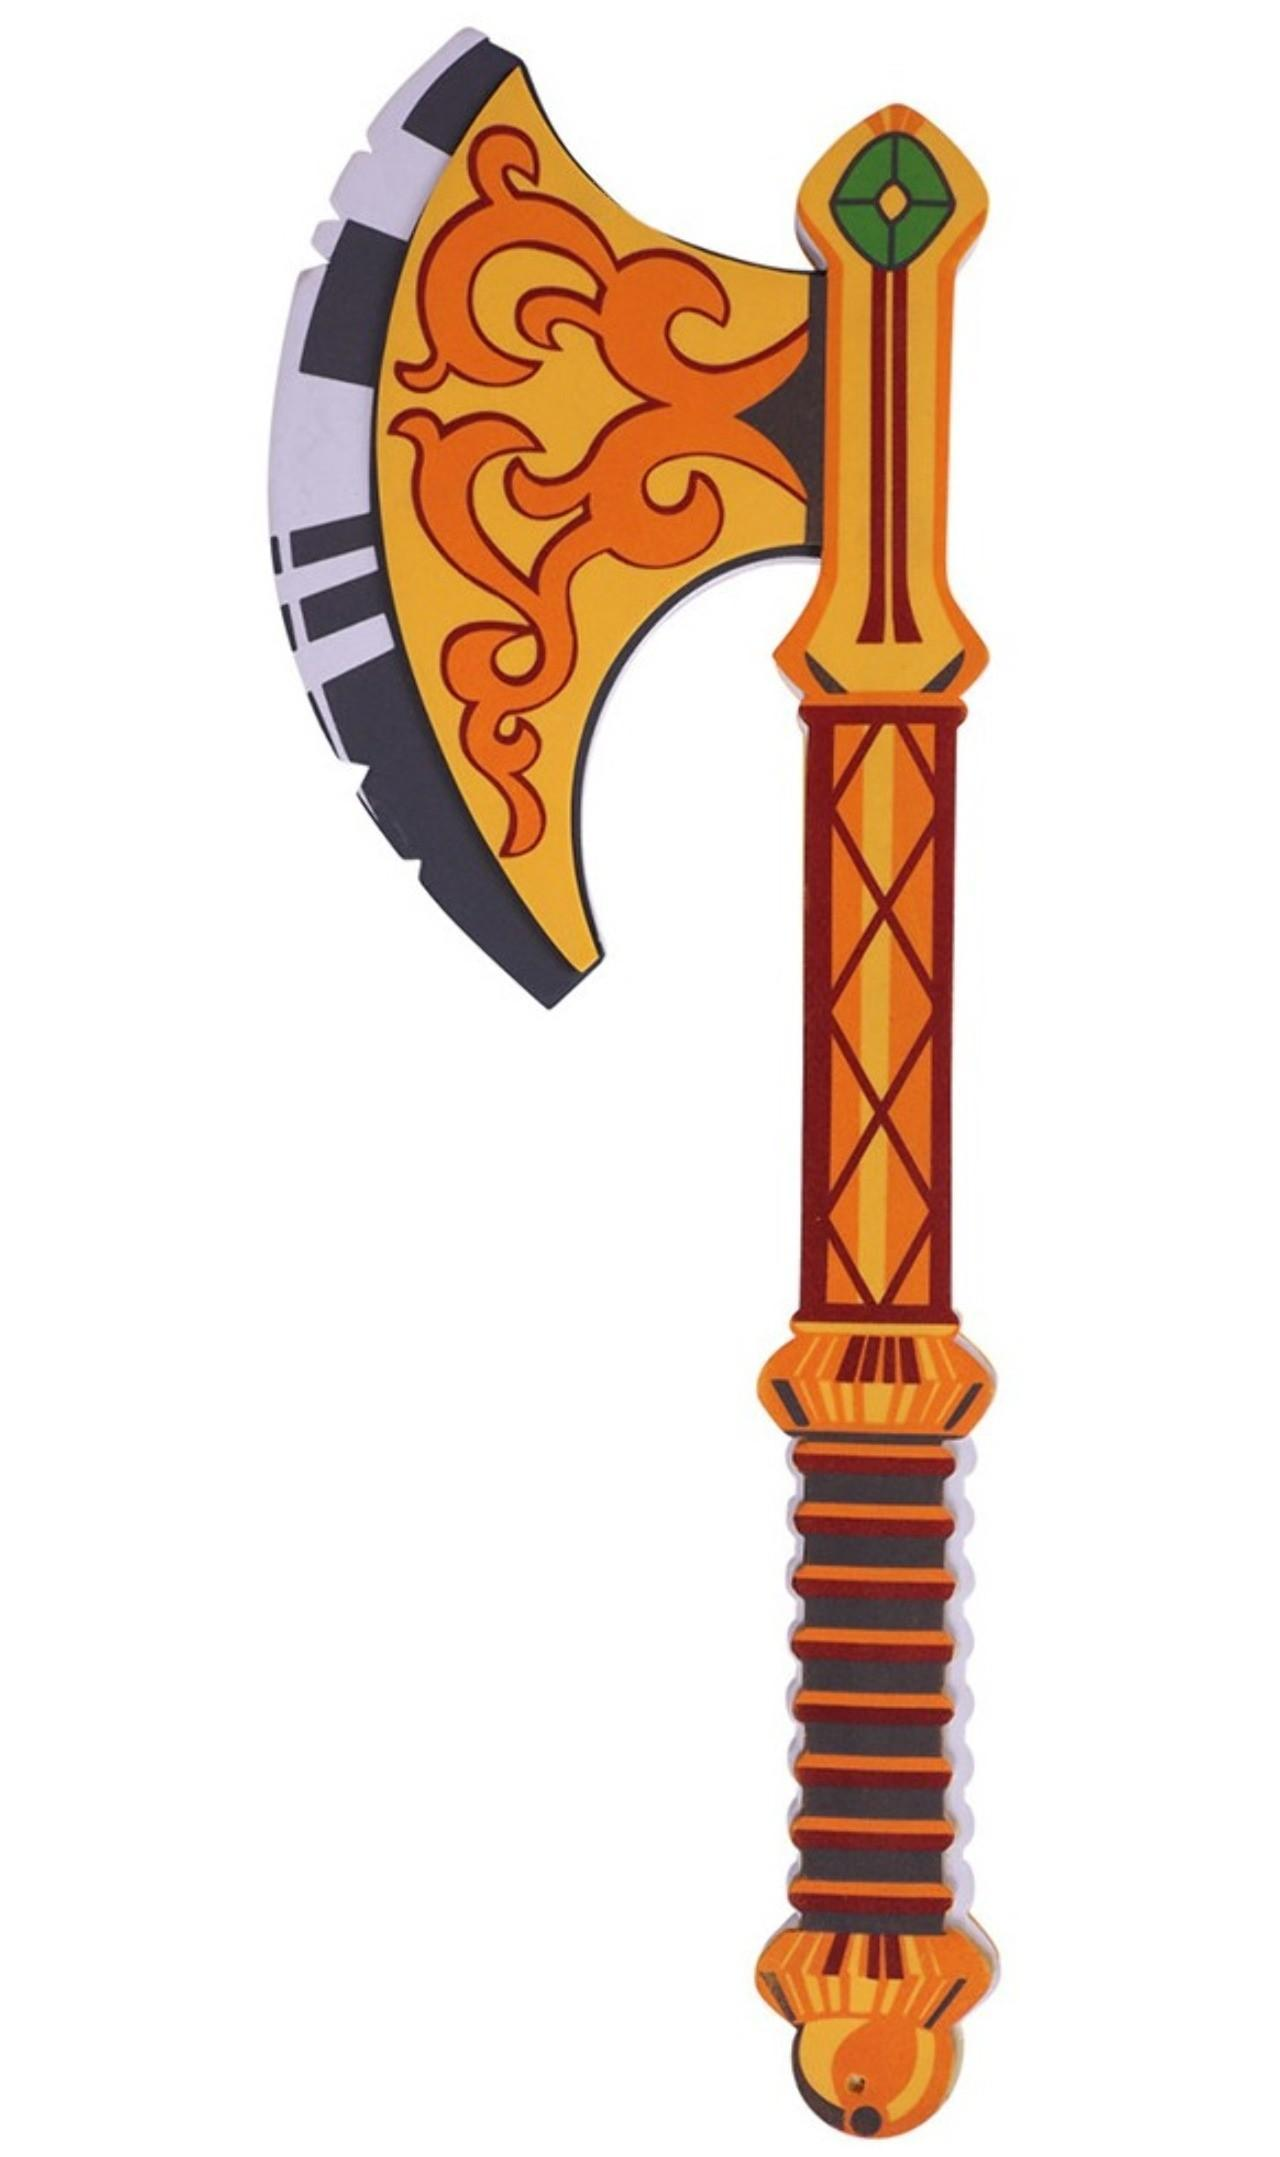machado: (270, 32, 995, 2136)
